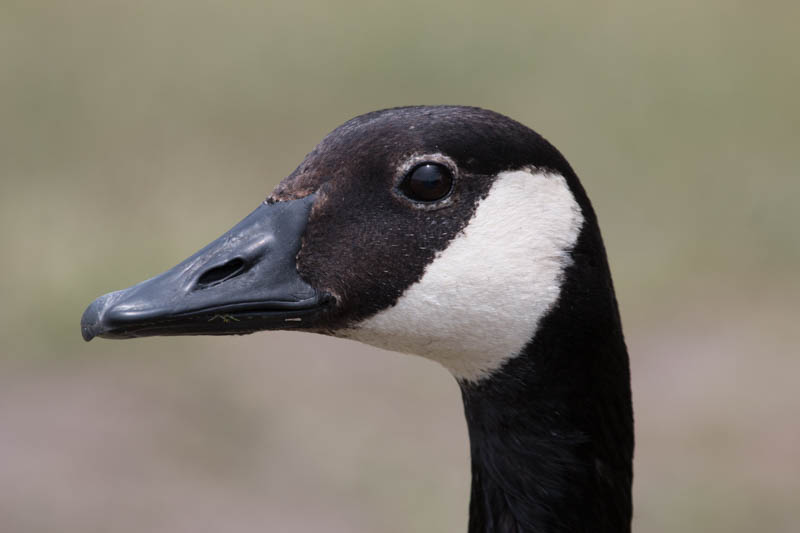goose-head: (81, 105, 631, 380)
